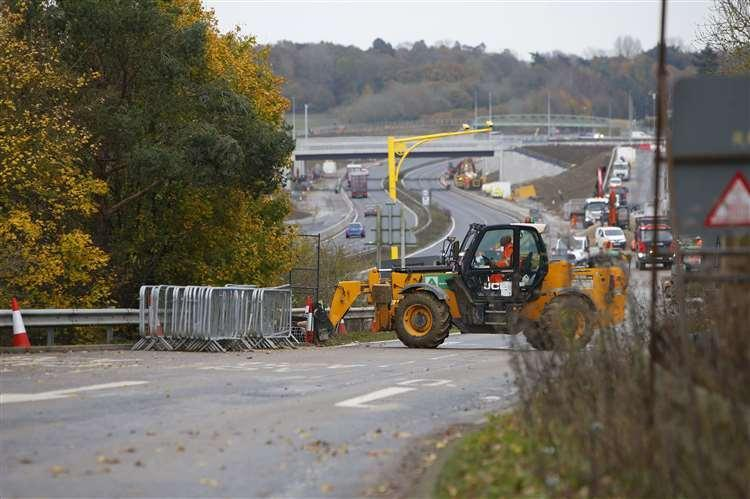car: (312, 221, 632, 354), (627, 212, 681, 270), (577, 192, 620, 234), (593, 220, 632, 249), (346, 165, 375, 202), (344, 215, 369, 242), (360, 200, 382, 222)
palisade: (134, 279, 301, 355)
roadcone: (3, 295, 44, 353)
